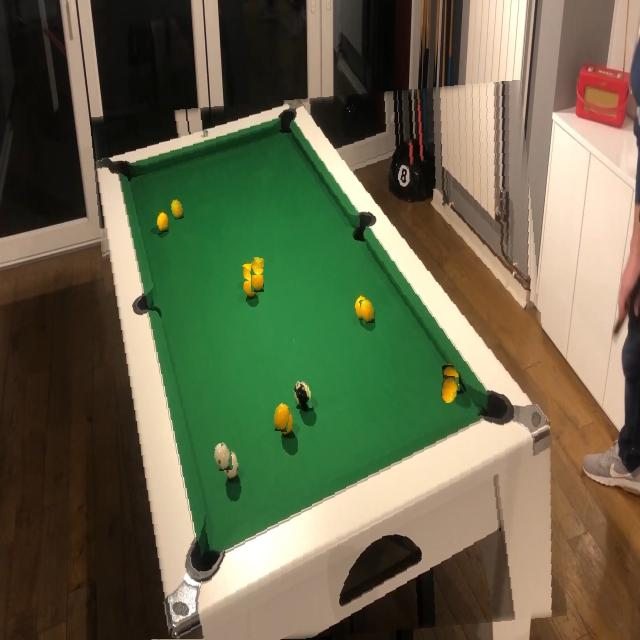Ball: (214, 443, 232, 471), (441, 376, 459, 403), (273, 404, 290, 432), (293, 380, 310, 408), (360, 300, 375, 324), (251, 270, 264, 292), (170, 198, 183, 219), (251, 258, 265, 276)
Billiard table: (101, 89, 556, 640)
